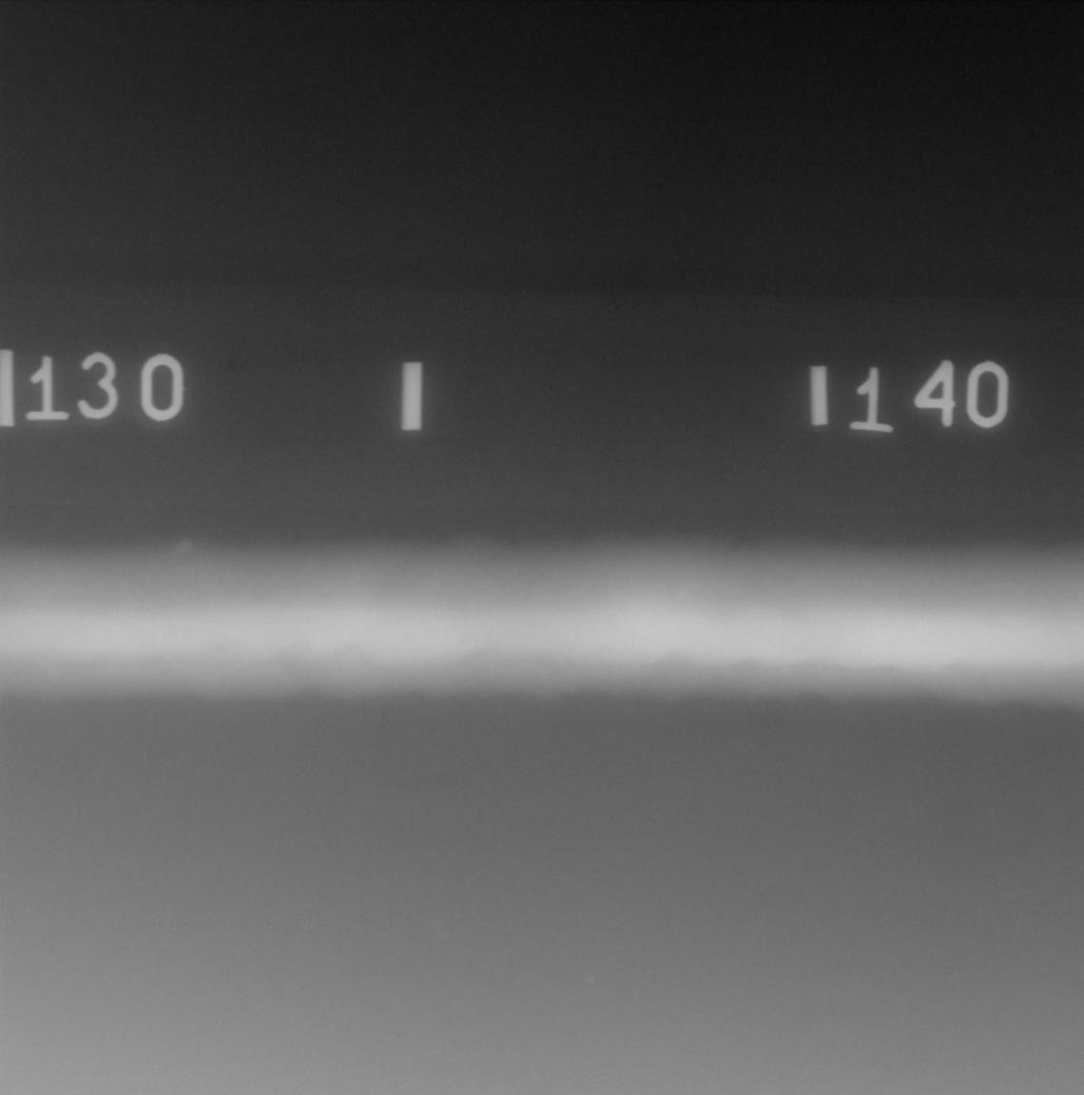Pore/Porosity: (1041, 589, 1047, 597)
